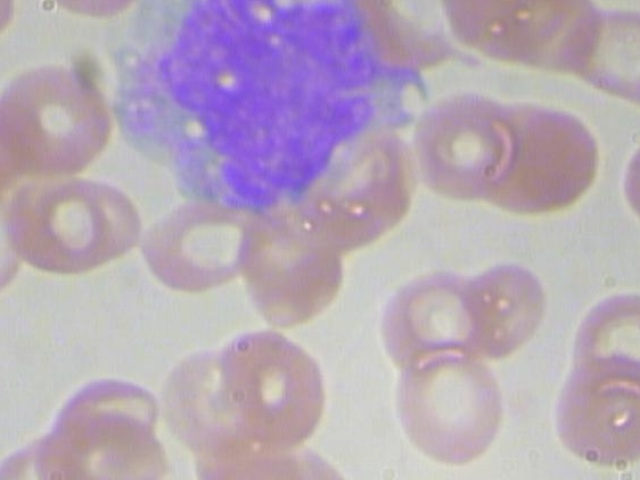RBC: (210, 321, 331, 452), (0, 56, 118, 187), (5, 173, 153, 277), (371, 261, 494, 377), (386, 348, 508, 464), (411, 85, 528, 197), (137, 194, 256, 298), (26, 410, 174, 480), (553, 353, 640, 469), (452, 260, 551, 361), (557, 0, 640, 111), (570, 283, 640, 395), (615, 106, 640, 236)
WBC: (108, 0, 430, 224)
